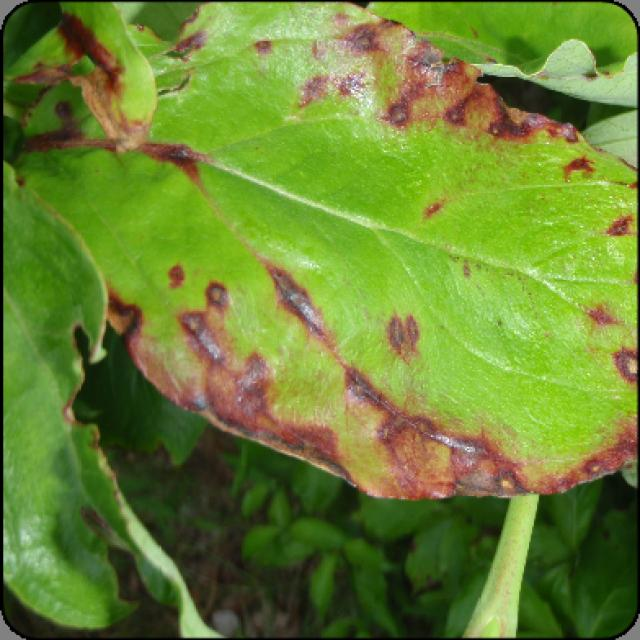leaf_spot: (18, 3, 635, 498)
